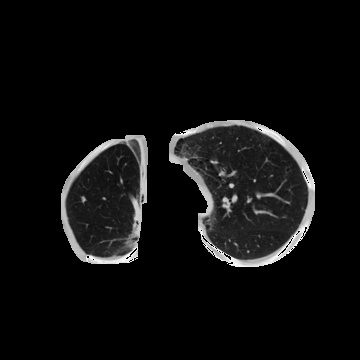PN: (81, 196, 87, 202)
